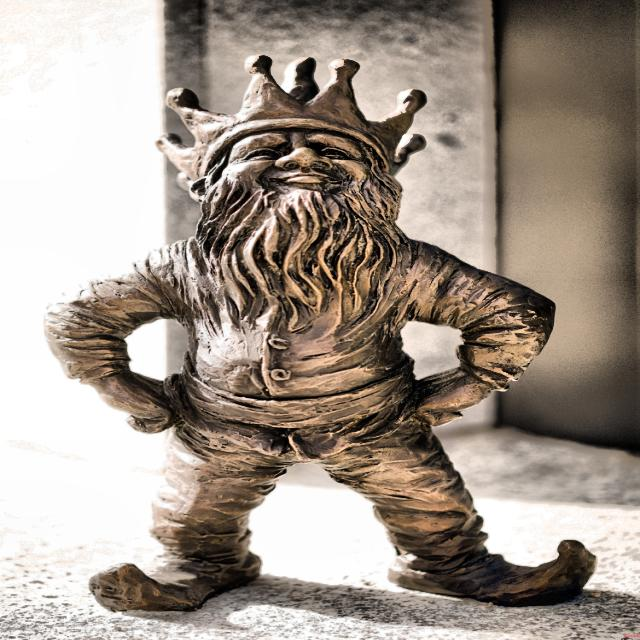Koronus: (43, 55, 597, 617)
